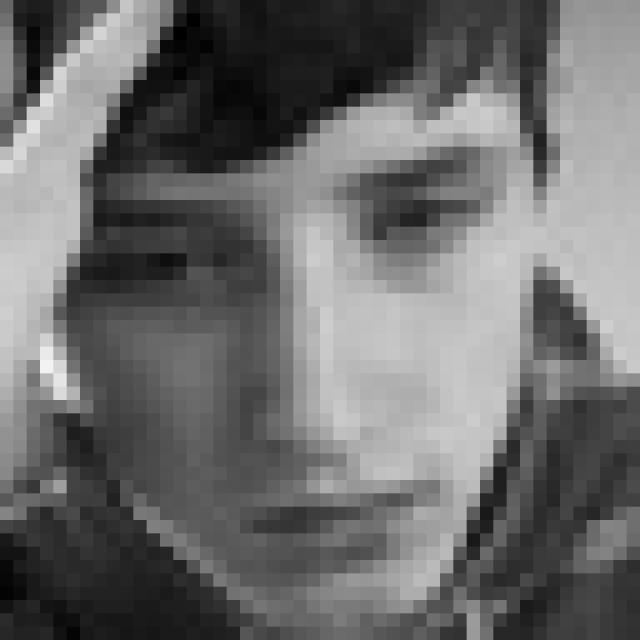sad: (90, 148, 516, 585)
